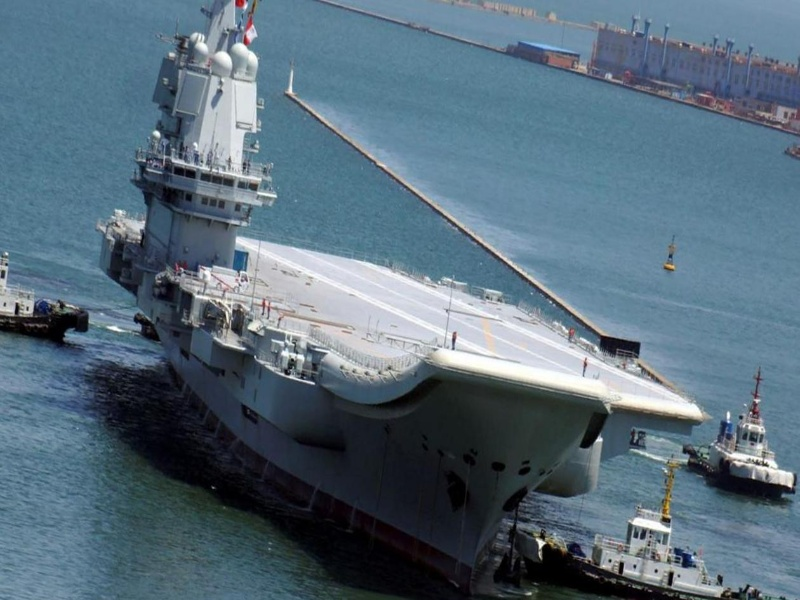boat: (542, 496, 763, 599), (705, 374, 795, 495), (3, 258, 88, 343)
carrier: (148, 39, 670, 593)
